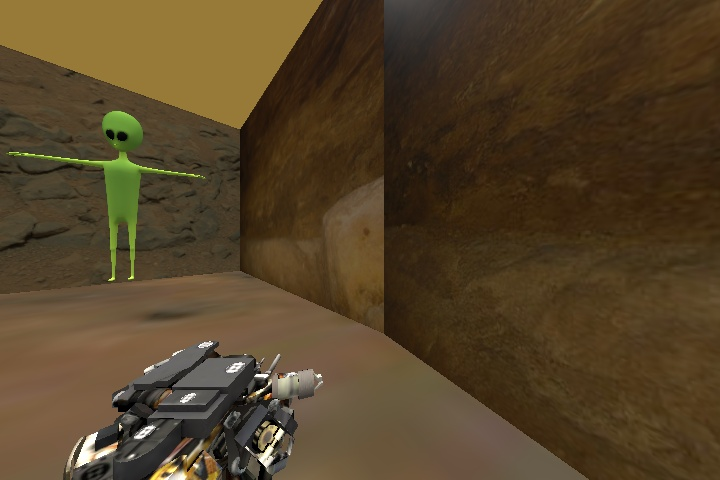alien: (7, 108, 206, 282)
